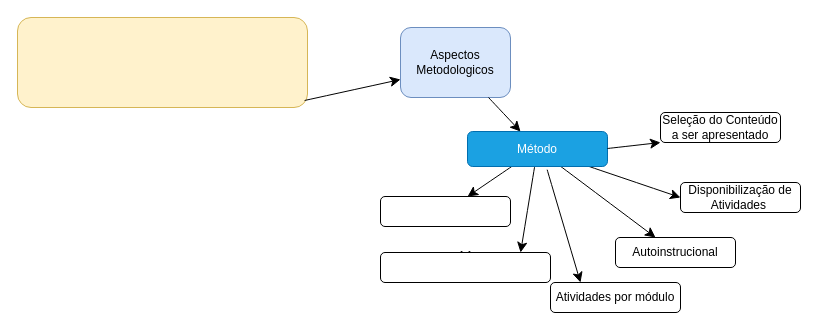
The diagram is 818 pixels wide and 330 high, and some of its shapes have lost their labels. Here are the shapes that lost their labels. From the top down, the centre of each, then its label:
the point at 162,62: Arquitetura Pedagógica
the point at 445,211: Recomendação de Material para estudo
the point at 465,267: Construção de objetos de aprendizagem.
